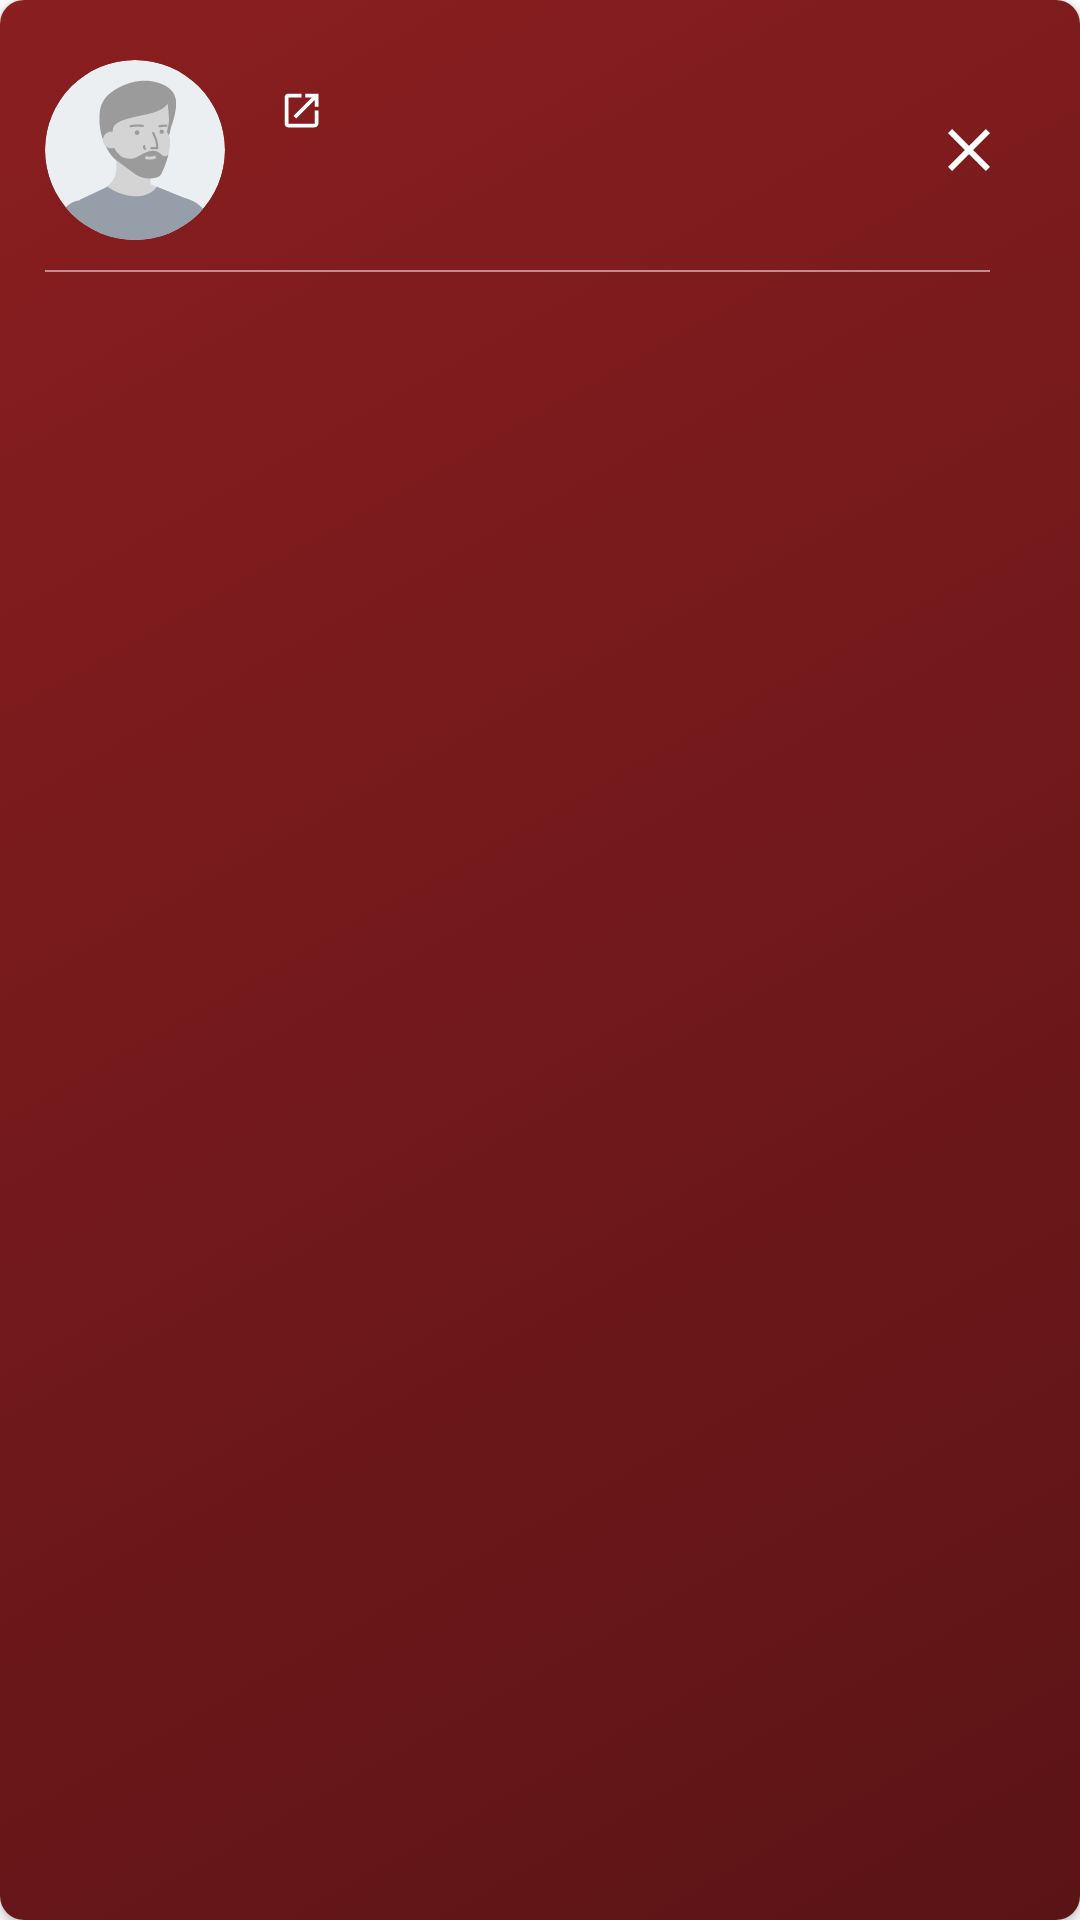

Icon click points for this 1080×1920 phone screenshot, format (x,y):
close: (969,150)
